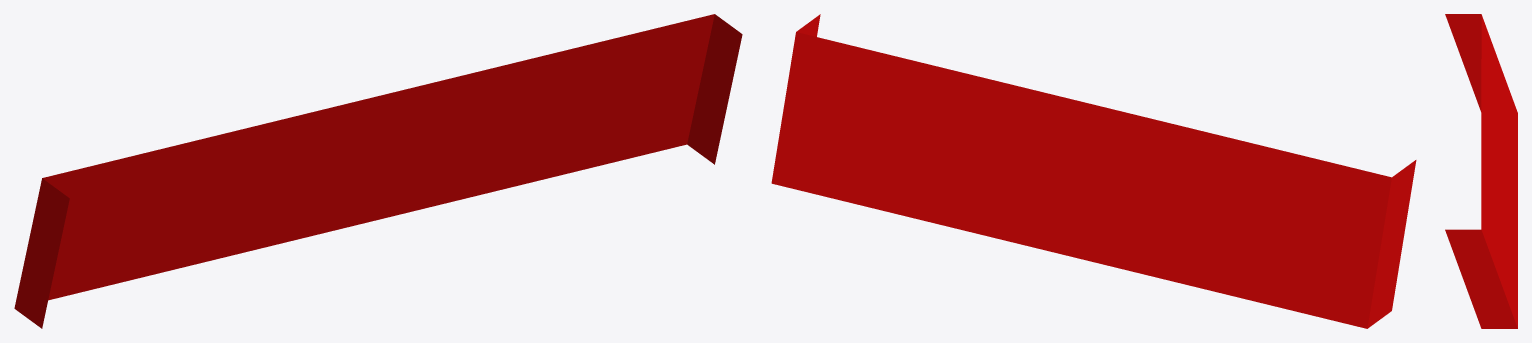
The model's file is Transak_UI_z_2_mm_B3.glb.
The picture shows the model from 3 angles, left to right: view 1: azimuth 30°, elevation 25°; view 2: azimuth 150°, elevation 25°; view 3: azimuth 270°, elevation 25°; orthographic projection. The views are drawn at different scales.
Parts seen in each view (by area): view 1: Button_SafeData_002; view 2: Button_SafeData_002; view 3: Button_SafeData_002.
Part boxes in pixels (x1,y1,x2,y2): Button_SafeData_002: (14,14,742,328); Button_SafeData_002: (771,14,1416,328); Button_SafeData_002: (1445,14,1517,328).
Bounding box in the file's own units: 0.42 × 0.09 × 0.06.
